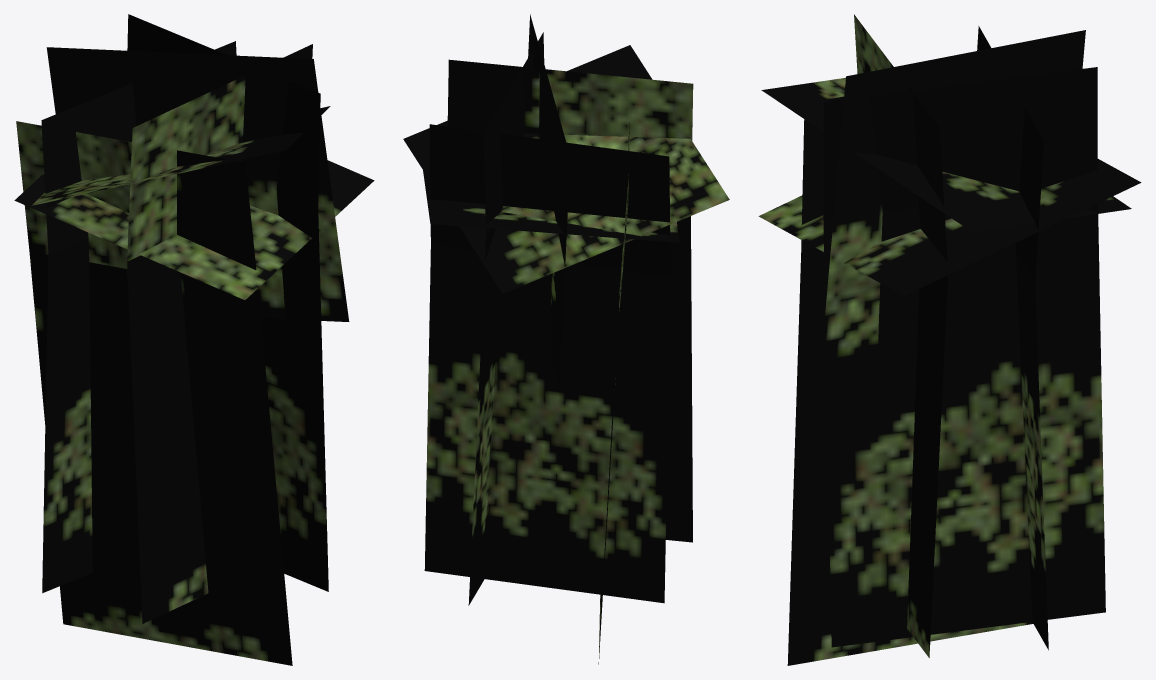
File: birch_leaves_slab_upper_2.obj
3 renders of one model, left to right at view 1: azimuth 30°, elevation 25°; view 2: azimuth 150°, elevation 25°; view 3: azimuth 270°, elevation 25°, orthographic. The views are drawn at different scales.
Parts seen in each view (by area): view 1: west, south, east, north, bottom, top; view 2: north, south, top, east, bottom, west; view 3: east, south, west, bottom, north, top.
Part boxes in pixels (box(x1,y1,x2,y2)): west: box(16, 121, 292, 665); south: box(46, 44, 349, 623); east: box(127, 14, 328, 591); north: box(41, 41, 236, 593); bottom: box(14, 160, 374, 299); top: box(31, 106, 330, 205); north: box(424, 124, 670, 603); south: box(447, 14, 693, 542); top: box(403, 45, 729, 293); east: box(468, 32, 544, 605); bottom: box(423, 170, 679, 242); west: box(598, 123, 629, 664); east: box(823, 67, 1105, 647); south: box(820, 14, 1085, 657); west: box(787, 96, 1033, 665); bottom: box(758, 159, 1141, 295); north: box(977, 26, 1048, 650); top: box(761, 77, 1131, 232).
Bounding box in the file's own units: 2.18 × 3.66 × 2.01.
